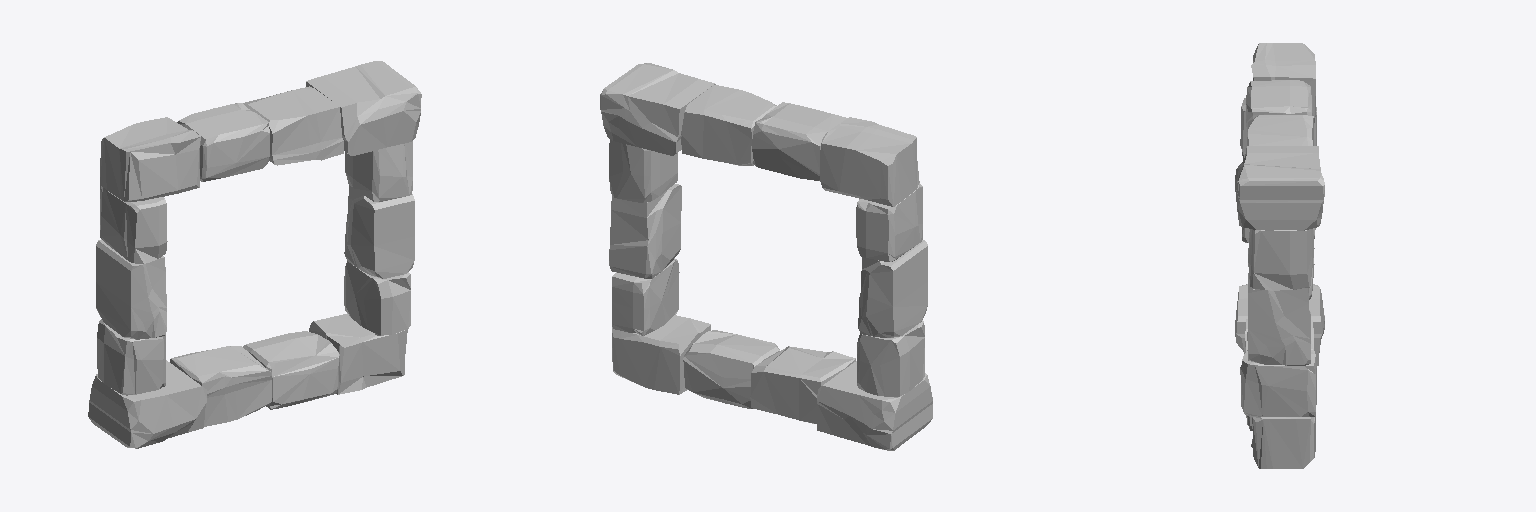
File: Window_Wide_Flat_Rocks.obj
3 views of the same model, side by side, from view 1: azimuth 30°, elevation 25°; view 2: azimuth 150°, elevation 25°; view 3: azimuth 270°, elevation 25° (orthographic).
Parts seen in each view (by area): view 1: Window_Wide_Flat_Rocks; view 2: Window_Wide_Flat_Rocks; view 3: Window_Wide_Flat_Rocks.
Part boxes in pixels (left/top/right/bottom): Window_Wide_Flat_Rocks: left=88, top=61, right=421, bottom=448; Window_Wide_Flat_Rocks: left=600, top=63, right=932, bottom=450; Window_Wide_Flat_Rocks: left=1235, top=43, right=1324, bottom=468.
Size of the model in its own units: 1.51 by 1.44 by 0.4009.